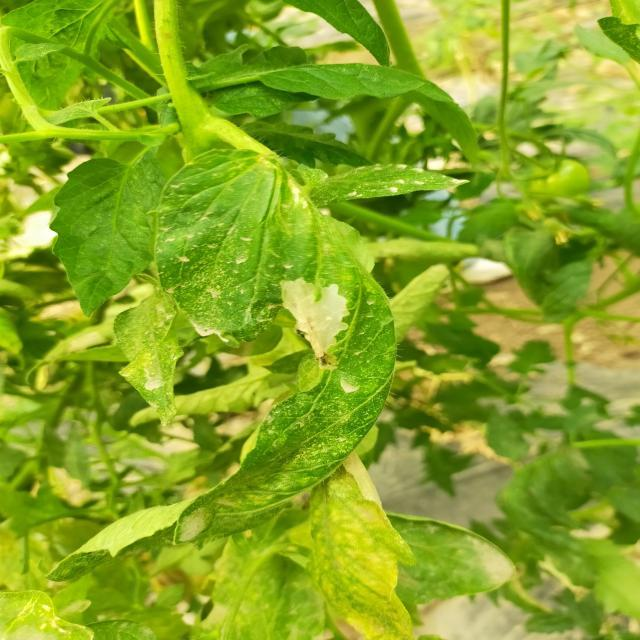Tuta absoluta: (272, 258, 373, 378)
